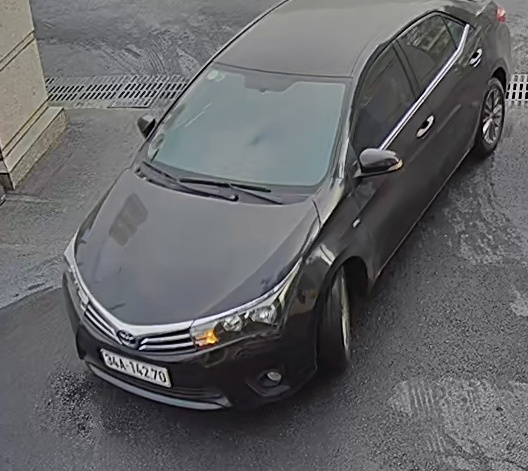vehicle plate: (93, 340, 177, 389)
